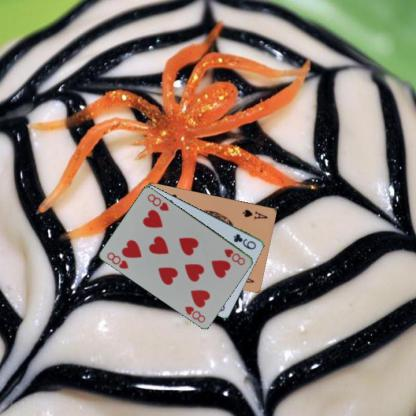8h: (105, 249, 130, 270), (222, 246, 247, 266)
9c: (231, 231, 258, 251)
As: (240, 207, 270, 220)
